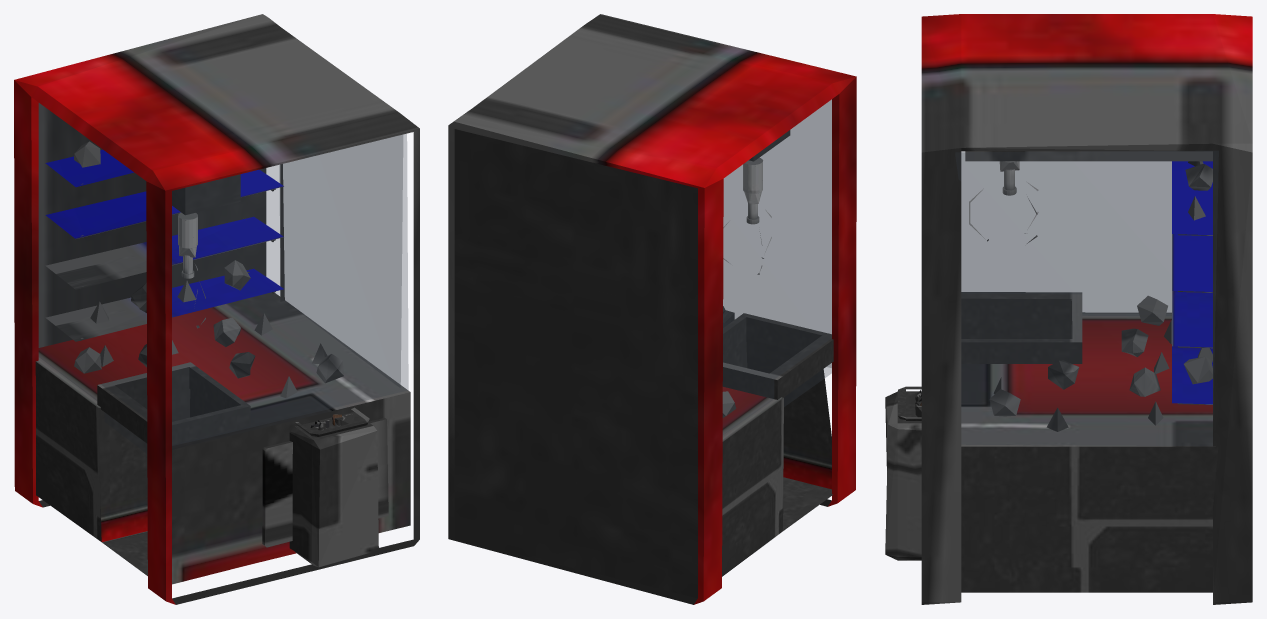
File: claw-ladylion.glb
3 views of the same model, side by side, from view 1: azimuth 30°, elevation 25°; view 2: azimuth 150°, elevation 25°; view 3: azimuth 270°, elevation 25° (orthographic). The views are drawn at different scales.
Parts seen in each view (by area): view 1: claw-ladylion; view 2: claw-ladylion; view 3: claw-ladylion.
Boxes of the visible parts, <box> form: claw-ladylion: <box>14,14,419,604</box>; claw-ladylion: <box>448,14,856,604</box>; claw-ladylion: <box>885,14,1252,604</box>.
Size of the model in its own units: 1.23 by 1.95 by 1.4.
Materials: 2 (1 with a texture image).
